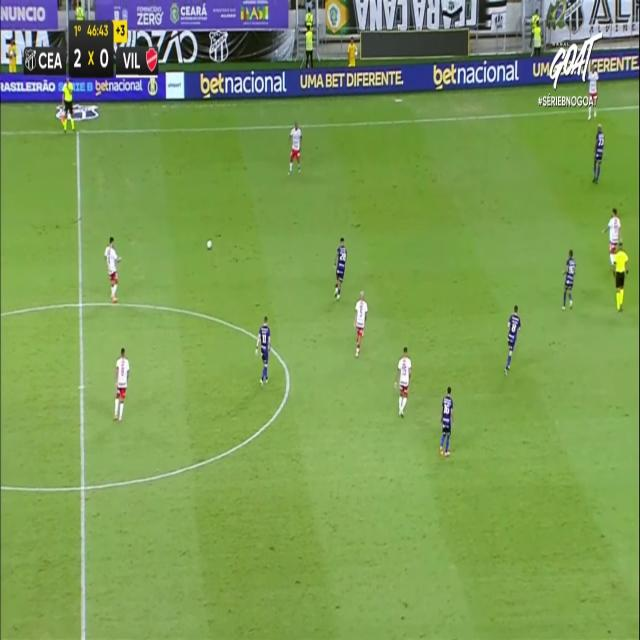ball: (207, 239, 212, 249)
player: (602, 206, 622, 272), (394, 346, 412, 418), (113, 347, 130, 421), (504, 304, 520, 376), (104, 236, 121, 302), (255, 316, 271, 384), (439, 385, 454, 456), (354, 290, 368, 357), (561, 248, 576, 310), (333, 237, 347, 300), (288, 121, 302, 175), (592, 123, 604, 183), (586, 62, 598, 120)
referee: (611, 240, 629, 311), (61, 75, 75, 133)
